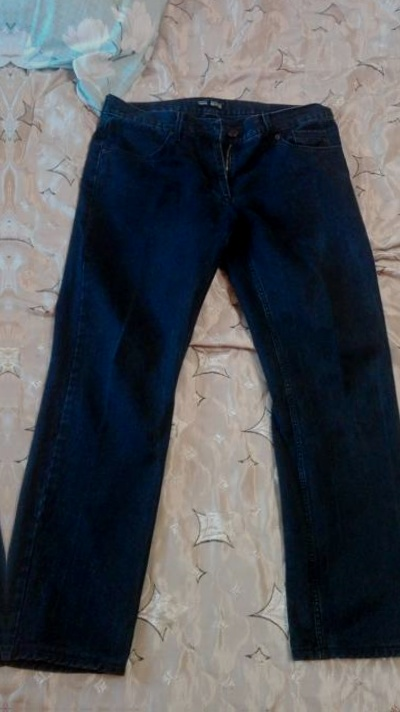Pants: (16, 80, 400, 677)
